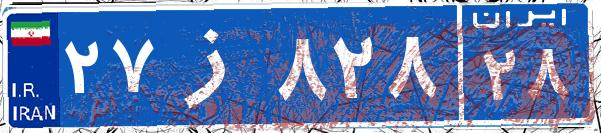2: (330, 28, 385, 110), (57, 26, 110, 107), (475, 38, 525, 113)
7: (110, 28, 158, 105)
8: (385, 28, 445, 110), (273, 28, 330, 110), (525, 38, 570, 115)
ز: (158, 15, 273, 115)
